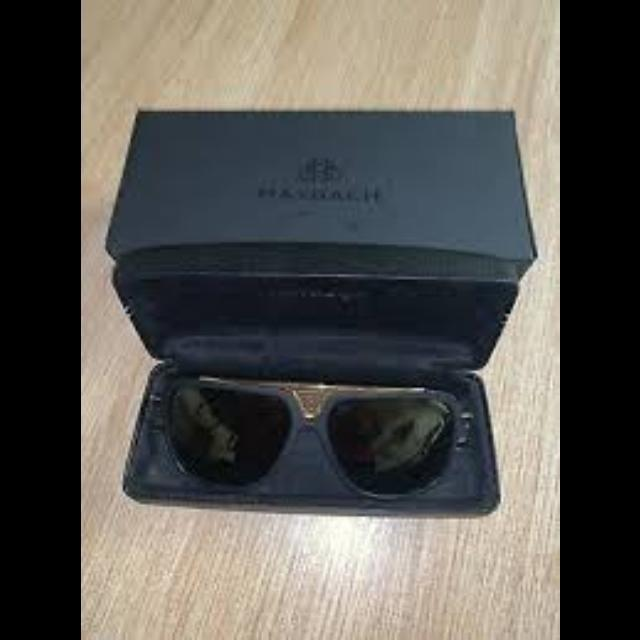glasses: (139, 372, 487, 502)
